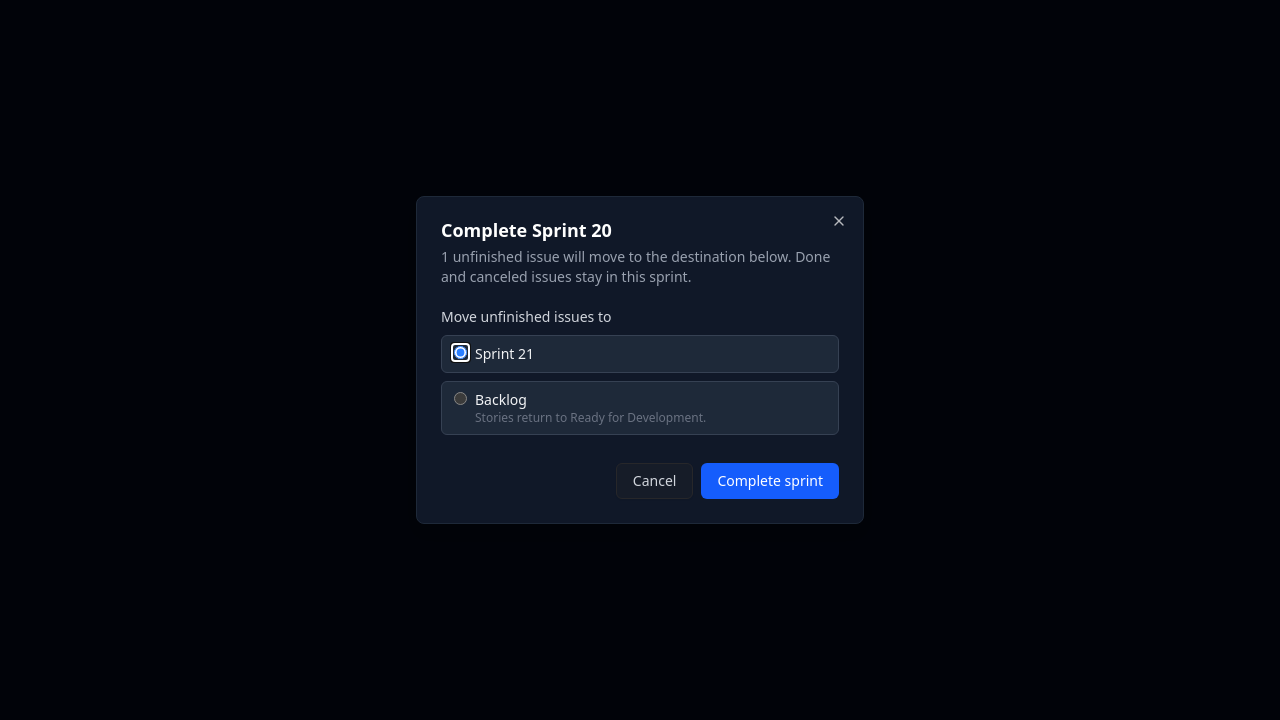
it: CompleteSprintDialog › shows the backend's refusal inside the dialog and stays open
The width and height of the screenshot is (1280, 720).
Click the button "Complete sprint": (770, 481) [702,463,839,499]
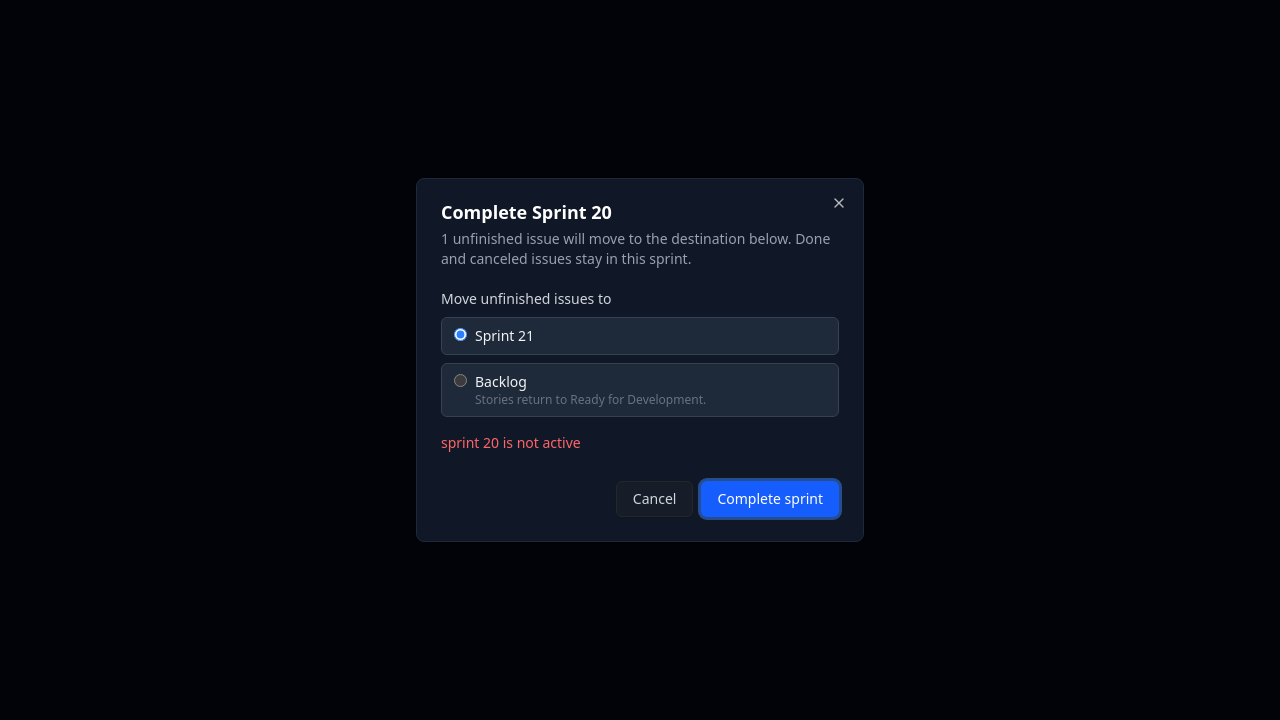
Expected: the dialog is shown, [416,178,864,542]
Now the text "sprint 20 is not active" is shown, box [441,433,581,452]
